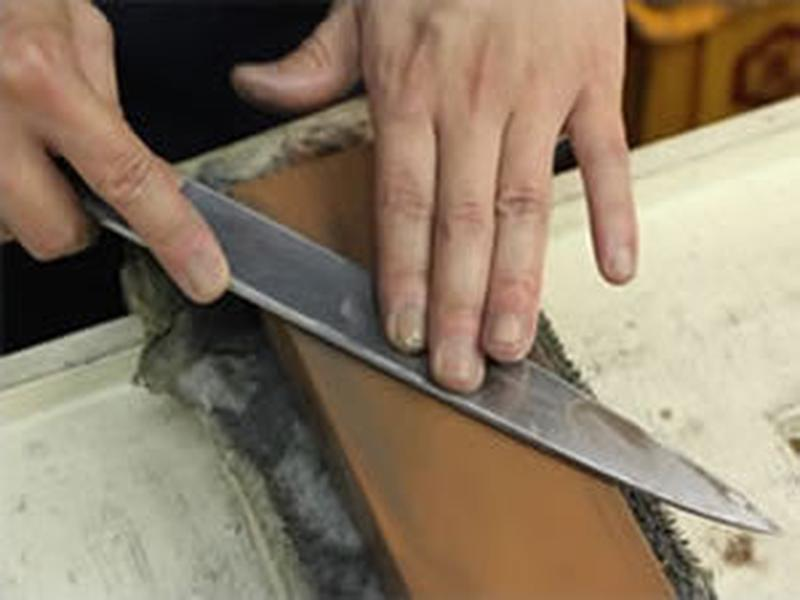KNIFE: (63, 128, 789, 544)
